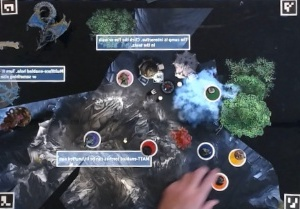blue: (194, 140, 217, 159)
green: (203, 82, 223, 103)
orange: (208, 168, 229, 192)
pink: (116, 67, 136, 89)
red: (135, 138, 159, 159)
violet: (82, 128, 104, 149)
yellow: (229, 147, 250, 167)
